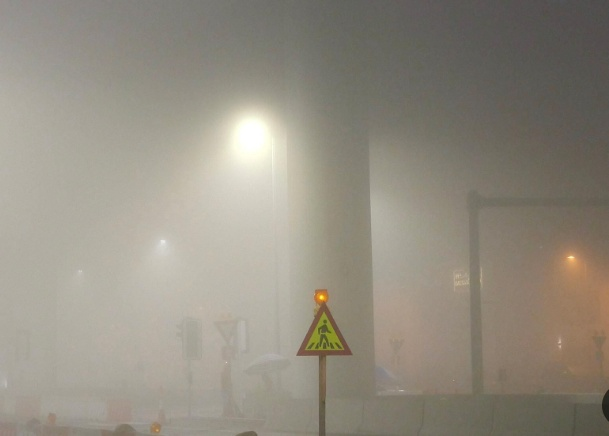Pedestrian crossing: (275, 293, 356, 363)
